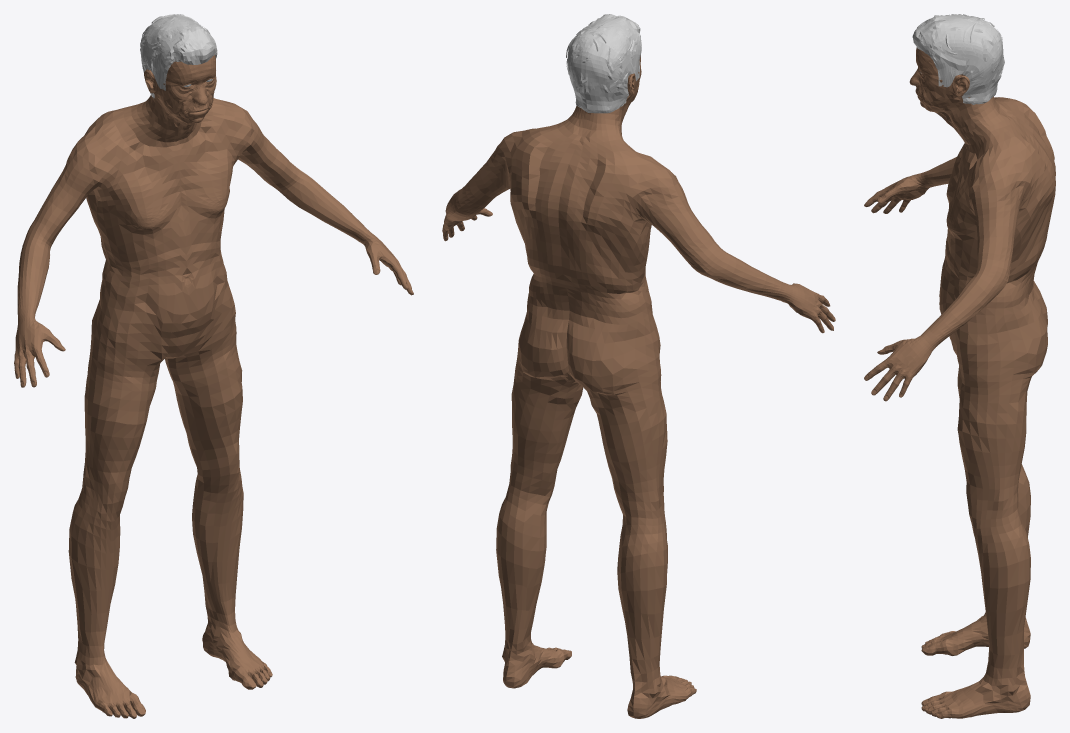
Rendered from hummodel2.obj.
The picture shows the model from 3 angles, left to right: view 1: azimuth 30°, elevation 25°; view 2: azimuth 150°, elevation 25°; view 3: azimuth 270°, elevation 25°; orthographic projection.
Parts seen in each view (by area): view 1: hummodel2, mhair02.obj; view 2: hummodel2, mhair02.obj; view 3: hummodel2, mhair02.obj.
Boxes of the visible parts, bbox=[...] form: hummodel2: bbox=[14, 55, 413, 718]; mhair02.obj: bbox=[140, 14, 217, 98]; hummodel2: bbox=[442, 55, 835, 718]; mhair02.obj: bbox=[566, 14, 641, 113]; hummodel2: bbox=[864, 47, 1055, 718]; mhair02.obj: bbox=[912, 14, 1004, 104].
Size of the model in its own units: 10.43 by 17.09 by 4.48.
